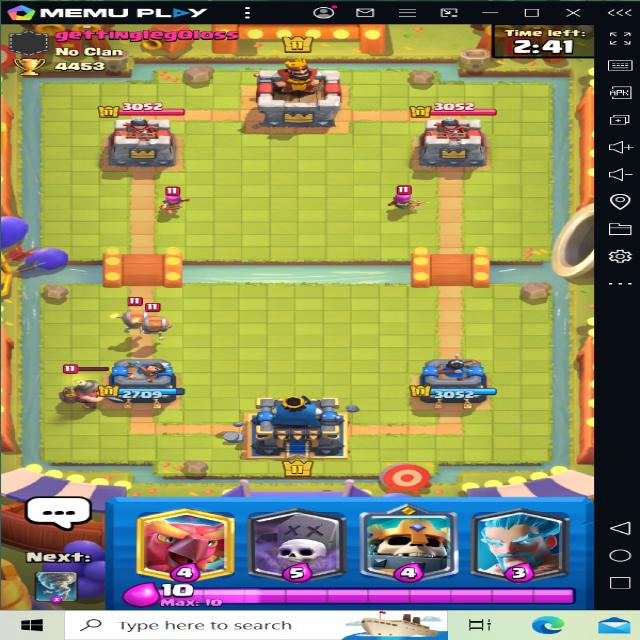Archer: (375, 181, 421, 220), (147, 183, 194, 218)
Miner: (40, 361, 113, 411)
Wallbreakers: (134, 302, 186, 343), (108, 296, 149, 335)
